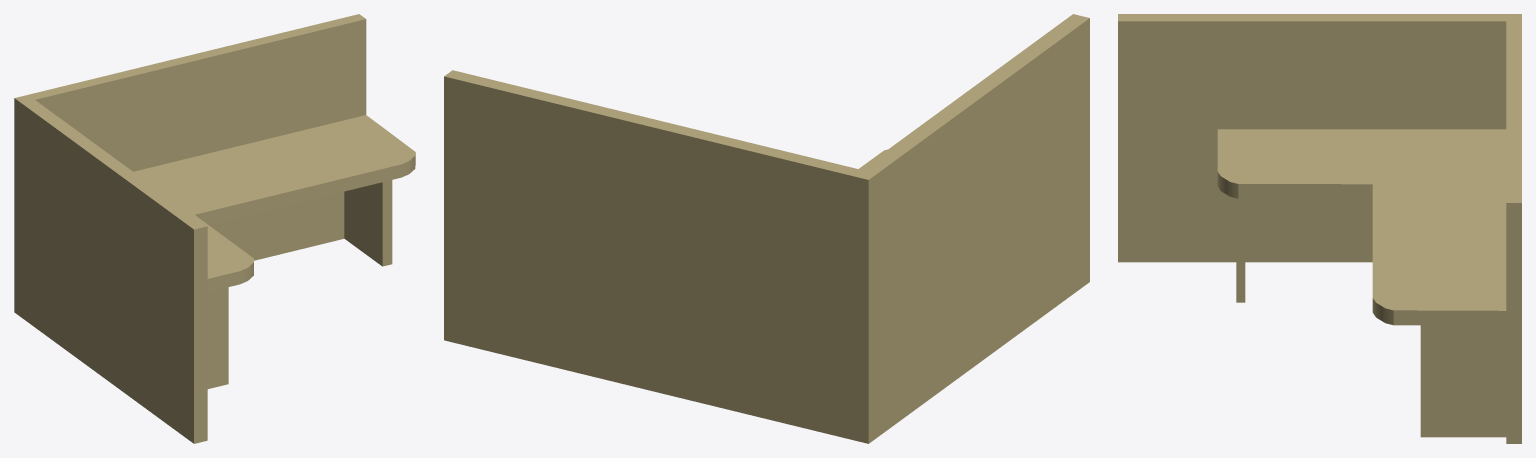
Rendered from table.fbx.
3 renders of one model, left to right at view 1: azimuth 30°, elevation 25°; view 2: azimuth 150°, elevation 25°; view 3: azimuth 270°, elevation 25°, orthographic. The views are drawn at different scales.
Visible parts, largest first — view 1: Table; view 2: Table; view 3: Table.
Part boxes in pixels (left/top/right/bottom): Table: left=14, top=14, right=415, bottom=443; Table: left=444, top=14, right=1089, bottom=443; Table: left=1118, top=14, right=1521, bottom=443.
Bounding box in the file's own units: 333 × 198 × 300.
